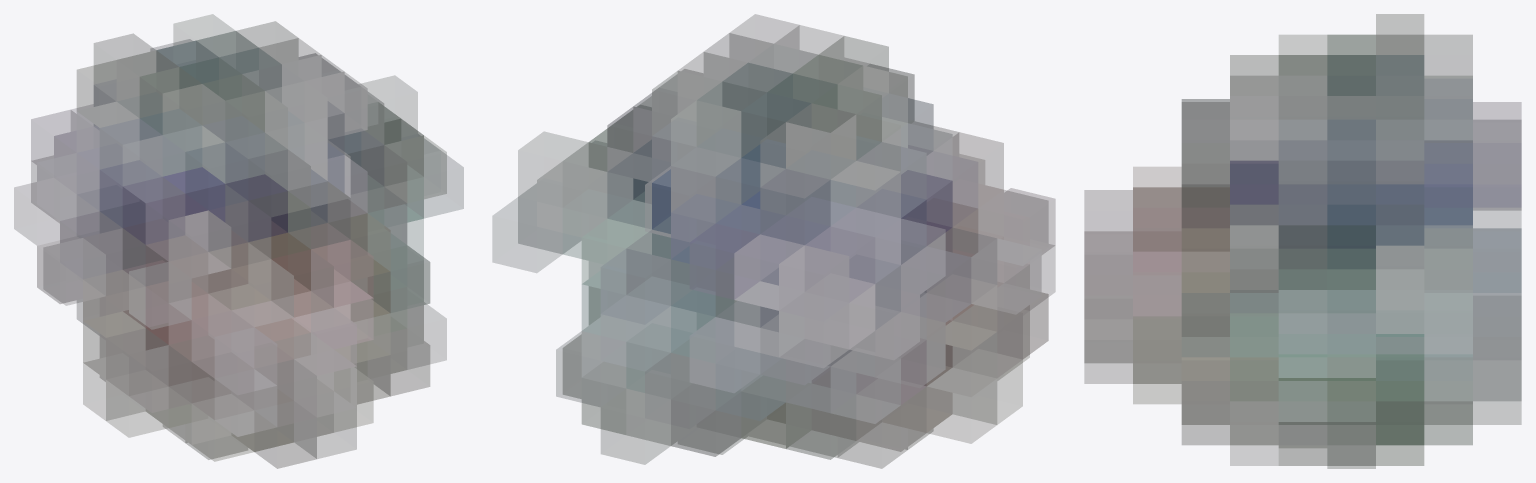
Rendered from iter_10.obj.
The picture shows the model from 3 angles, left to right: view 1: azimuth 30°, elevation 25°; view 2: azimuth 150°, elevation 25°; view 3: azimuth 270°, elevation 25°; orthographic projection. The views are drawn at different scales.
Parts seen in each view (by area): view 1: iter_10; view 2: iter_10; view 3: iter_10.
Boxes of the visible parts, <box> form: iter_10: <box>14,14,463,468</box>; iter_10: <box>493,14,1055,468</box>; iter_10: <box>1084,14,1521,468</box>.
Bounding box in the file's own units: 1 × 0.8 × 0.9.
